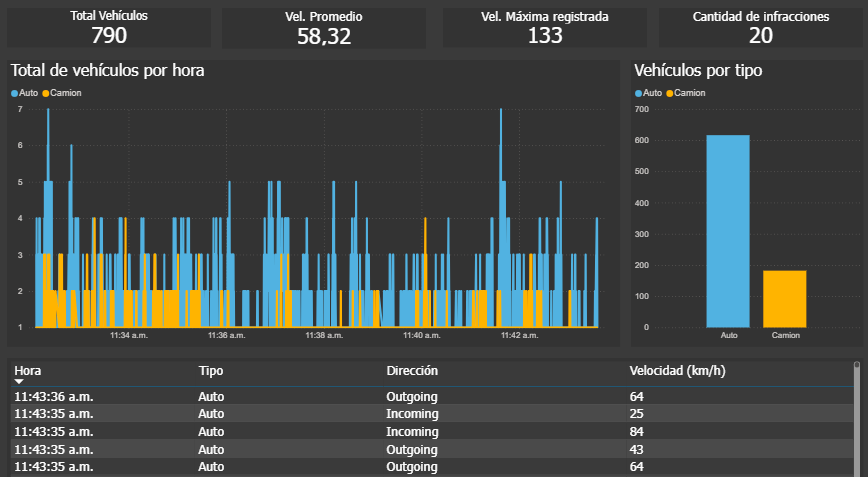

The dashboard page shown, as its layout file describes it:
{"tool":"powerbi","page":{"name":"Página 1","canvas":[1280,720],"ordinal":0},"visuals":[{"type":"card","title":"Total Vehículos","fields":{"Values":["public traffic_logs.Vehiculos Reales"]},"box":[11.7,13.3,300,58.3],"z":0},{"type":"card","title":"Cantidad de infracciones","fields":{"Values":["public traffic_logs.Autos con Infraccion"]},"box":[971.7,13.3,300,58.3],"z":1000},{"type":"card","title":"Vel. Máxima registrada","fields":{"Values":["public traffic_logs.Velocidad Maxima"]},"box":[653.3,13.3,300,58.3],"z":2000},{"type":"card","title":"Vel. Promedio","fields":{"Values":["public traffic_logs.Velocidad Promedio"]},"box":[328.3,13.3,300,60],"z":3000},{"type":"lineChart","title":"Total de vehículos por hora","fields":{"Y":["public traffic_logs.Vehiculos Reales"],"Series":["public traffic_logs.vehicle_class"],"Category":["public traffic_logs.record_time"]},"box":[11.7,90,901.7,421.7],"z":4000},{"type":"tableEx","fields":{"Values":["public traffic_logs.record_time","public traffic_logs.vehicle_class","public traffic_logs.direction","public traffic_logs.speed_kmh"]},"box":[11.7,528.3,1260,191.7],"z":5000},{"type":"columnChart","title":"Vehículos por tipo","fields":{"Series":["public traffic_logs.vehicle_class"],"Y":["public traffic_logs.Vehiculos Reales"],"Category":["public traffic_logs.vehicle_class"]},"box":[930,90,341.7,421.7],"z":6000}]}

Visuals, with their boxes in screenshot pixels (x1, y1, x2, y2), scaled from the page's 1280x720 canvas onto the 868x477 screenshot:
"Total Vehículos" card: {"x1": 8, "y1": 9, "x2": 211, "y2": 47}
"Cantidad de infracciones" card: {"x1": 659, "y1": 9, "x2": 862, "y2": 47}
"Vel. Máxima registrada" card: {"x1": 443, "y1": 9, "x2": 646, "y2": 47}
"Vel. Promedio" card: {"x1": 223, "y1": 9, "x2": 426, "y2": 49}
"Total de vehículos por hora" lineChart: {"x1": 8, "y1": 60, "x2": 619, "y2": 339}
tableEx - public traffic_logs.record_time x public traffic_logs.vehicle_class: {"x1": 8, "y1": 350, "x2": 862, "y2": 476}
"Vehículos por tipo" columnChart: {"x1": 631, "y1": 60, "x2": 862, "y2": 339}
